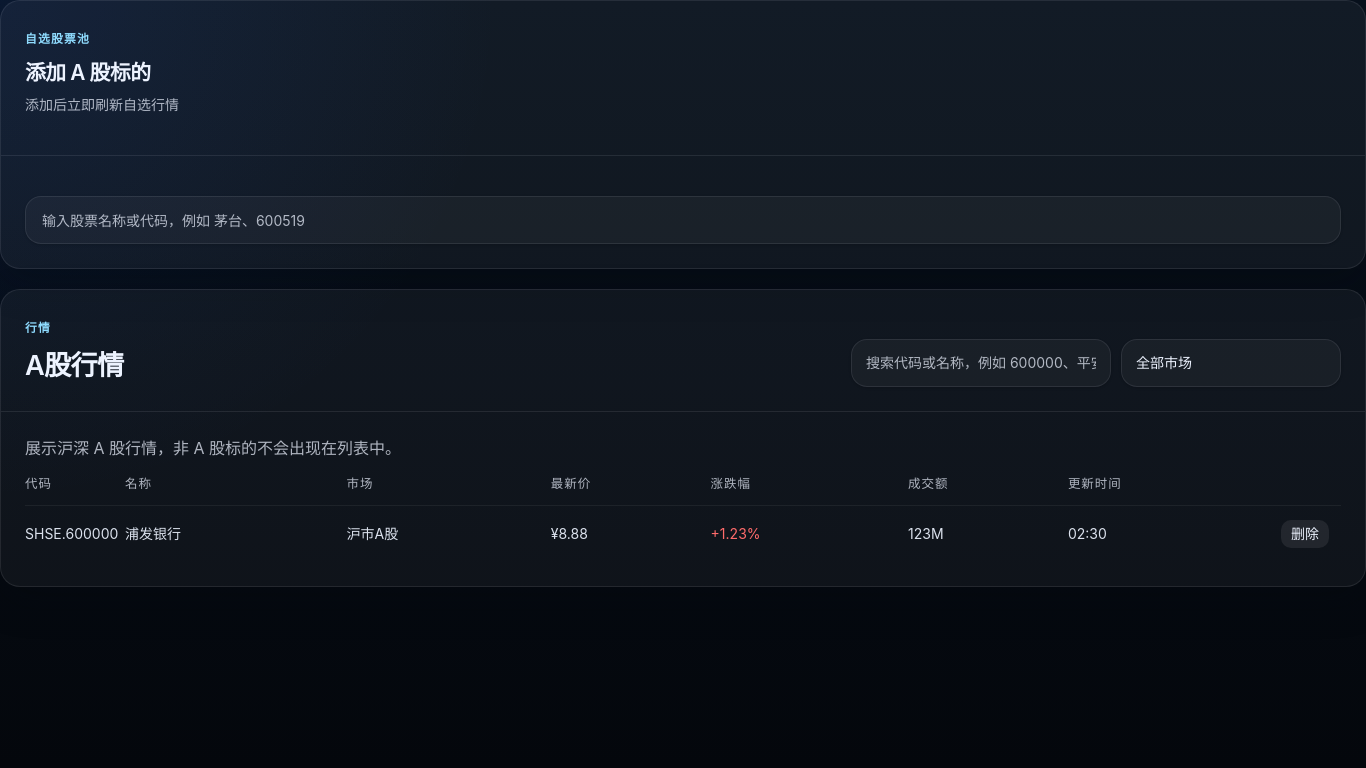
MarketsPage › shows string errors returned by the stock search command
The image size is (1366, 768).
Type "茅台" into the field named "搜索并添加自选股票". click: (683, 220)
box: [25,196,1341,244]
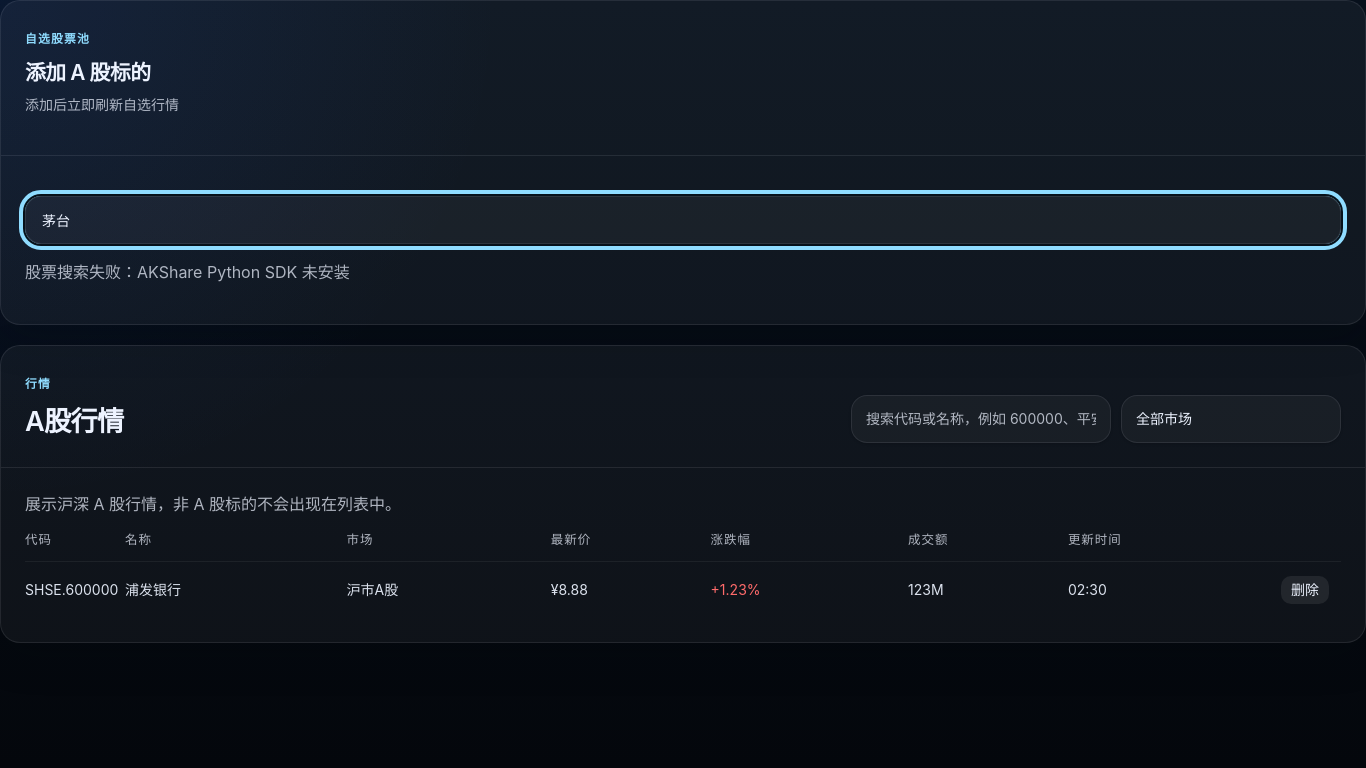
Now the text "股票搜索失败：AKShare Python SDK 未安装" is shown, box [25,262,350,282]
